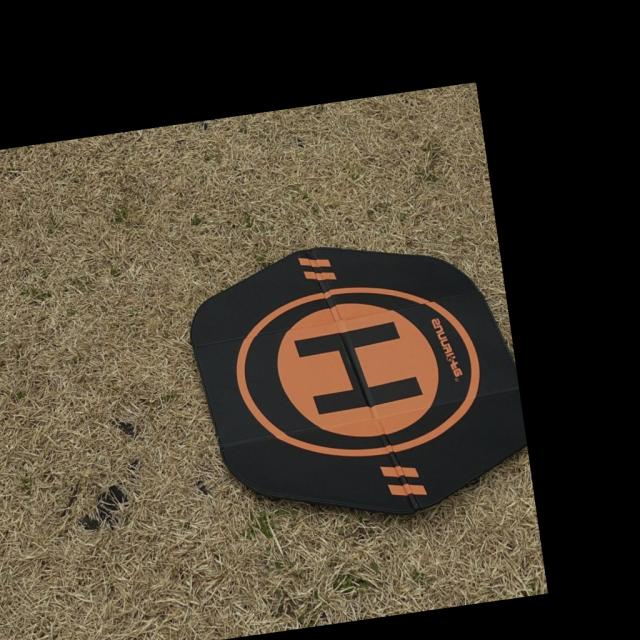helipad: (229, 283, 487, 462)
